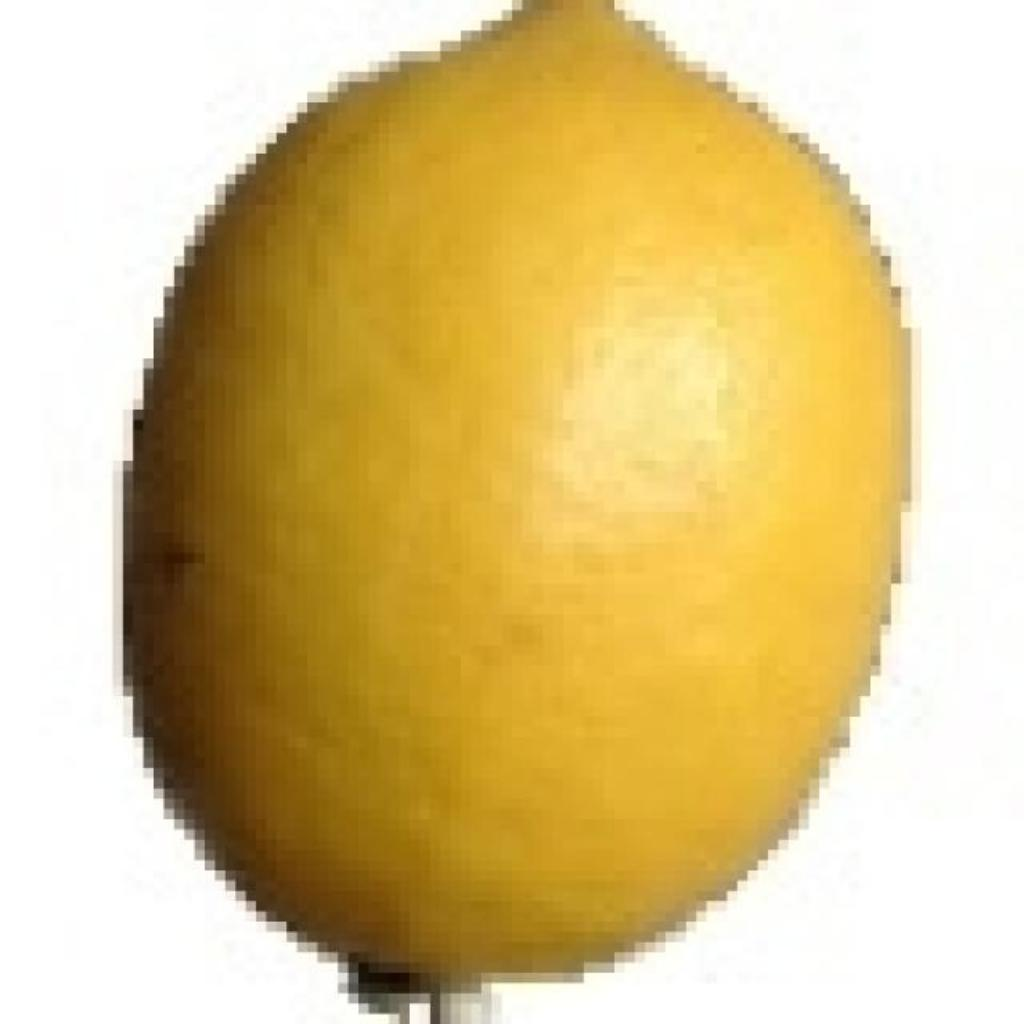lemon: (126, 0, 906, 1015)
